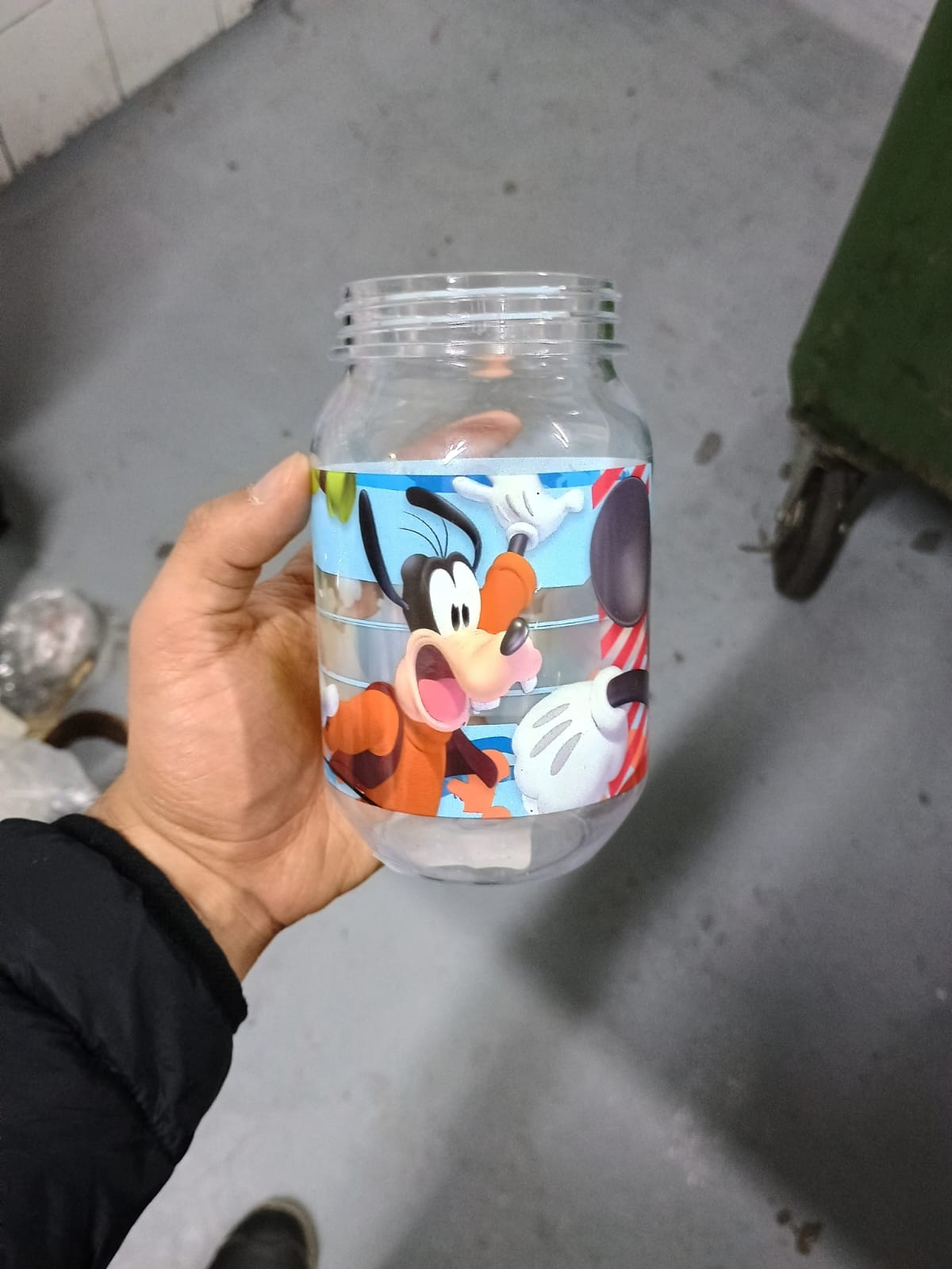Plastico: (306, 269, 650, 887)
